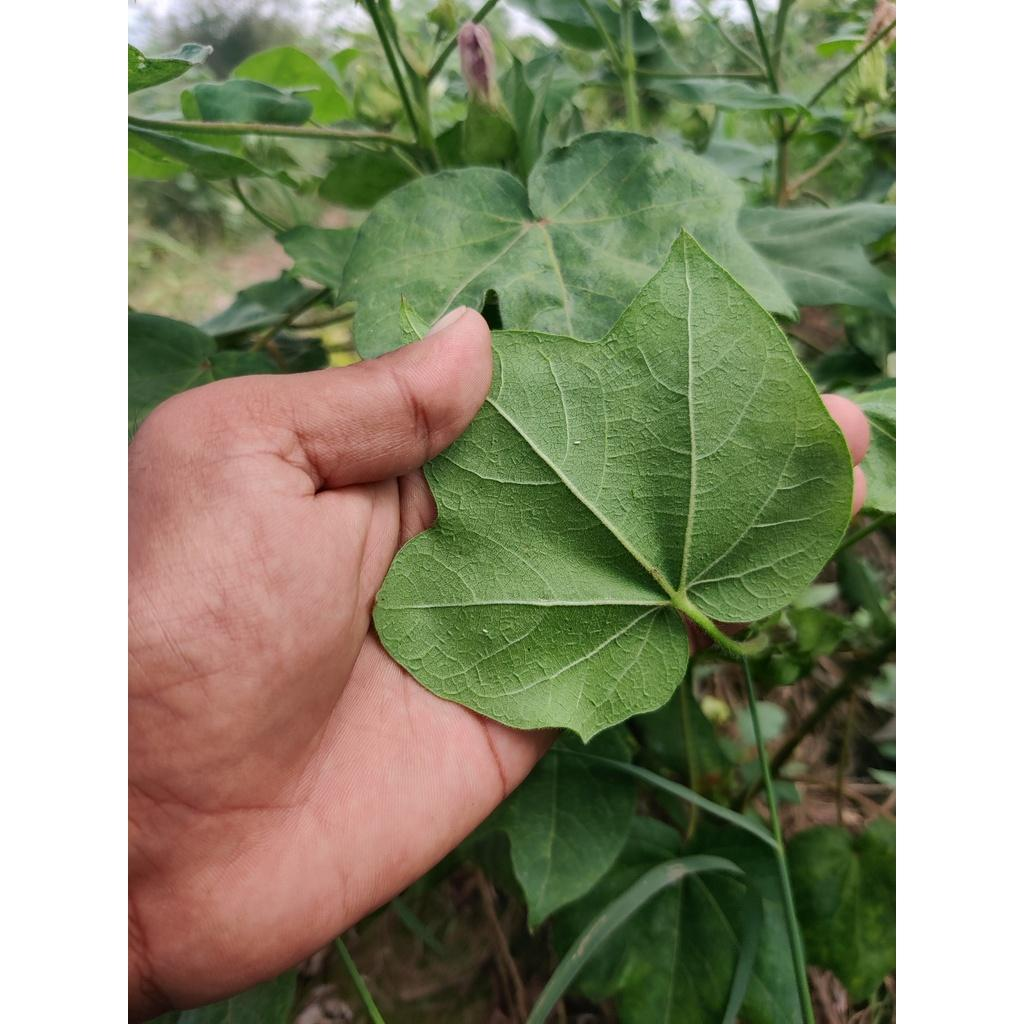adult: (573, 441, 581, 445), (483, 629, 488, 633)
